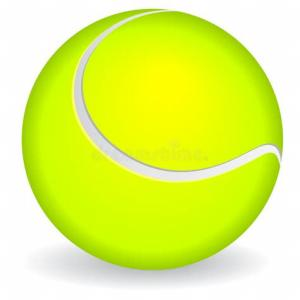Tennis: (9, 0, 300, 272)
